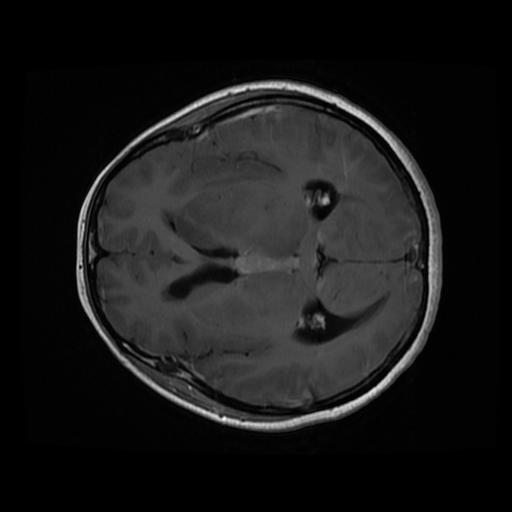glioma: (175, 177, 308, 276)
